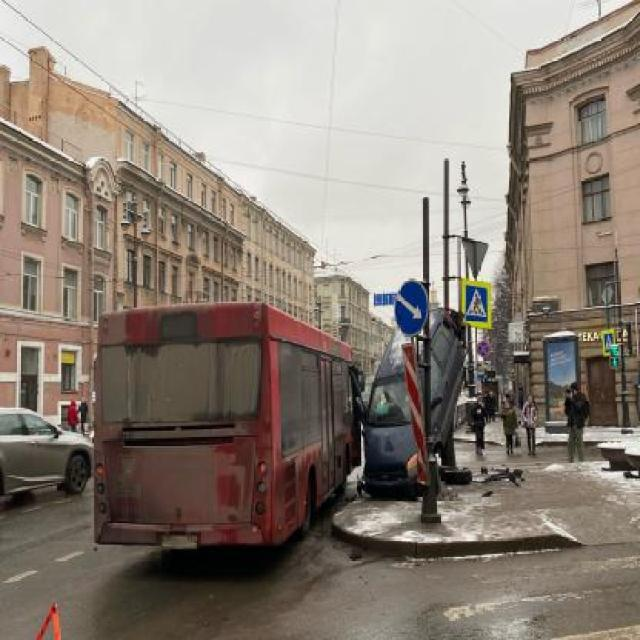bus: (94, 302, 362, 546)
car: (1, 403, 87, 499)
